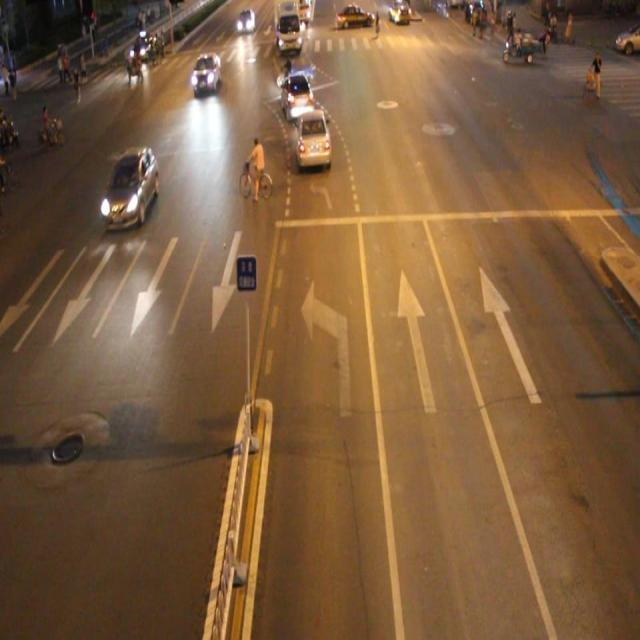car: (102, 146, 158, 226), (295, 104, 334, 164), (280, 67, 316, 119), (190, 51, 221, 95)
